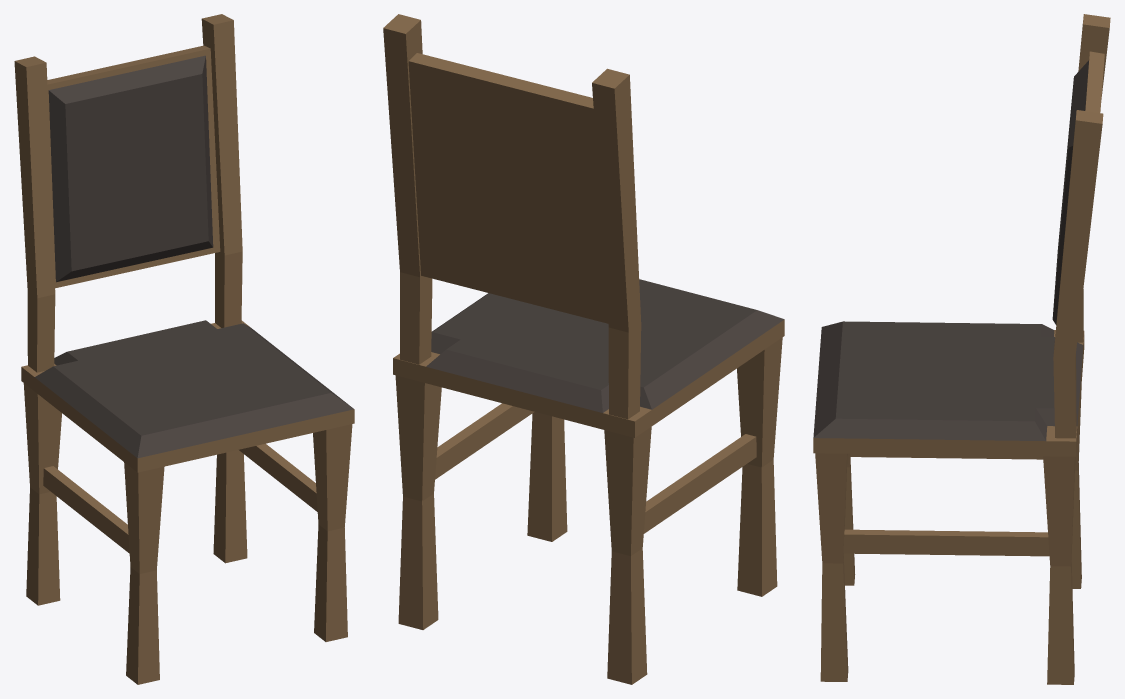
Rendered from SimpleChair1.glb.
The picture shows the model from 3 angles, left to right: view 1: azimuth 30°, elevation 25°; view 2: azimuth 150°, elevation 25°; view 3: azimuth 270°, elevation 25°; orthographic projection. The views are drawn at different scales.
Parts seen in each view (by area): view 1: BasicChair; view 2: BasicChair; view 3: BasicChair.
Boxes of the visible parts, x1,y1,x2,y2 form: BasicChair: (14, 14, 354, 684); BasicChair: (383, 14, 784, 684); BasicChair: (813, 14, 1110, 684).
Size of the model in its own units: 0.5774 by 1.33 by 0.6329.
Materials: 1 (1 with a texture image).
